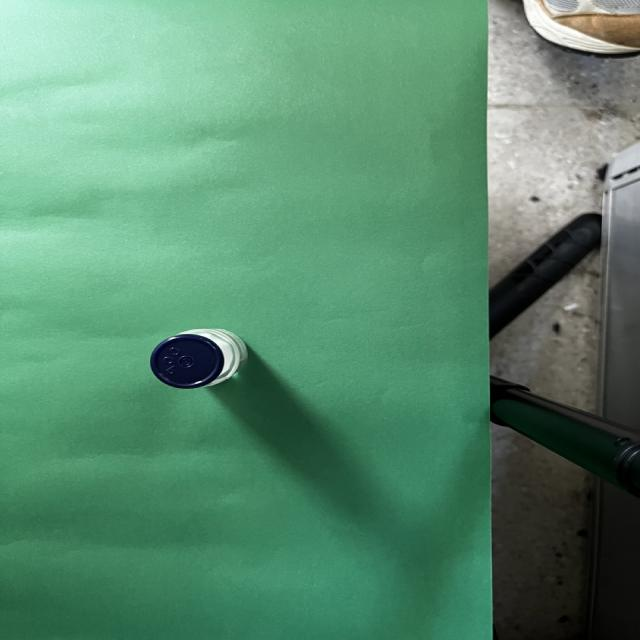Vials: (150, 329, 247, 388)
